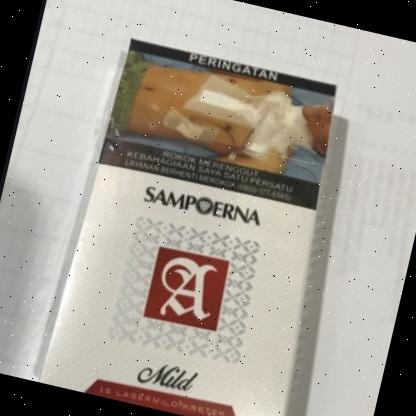bungkus rokok: (25, 21, 375, 416)
